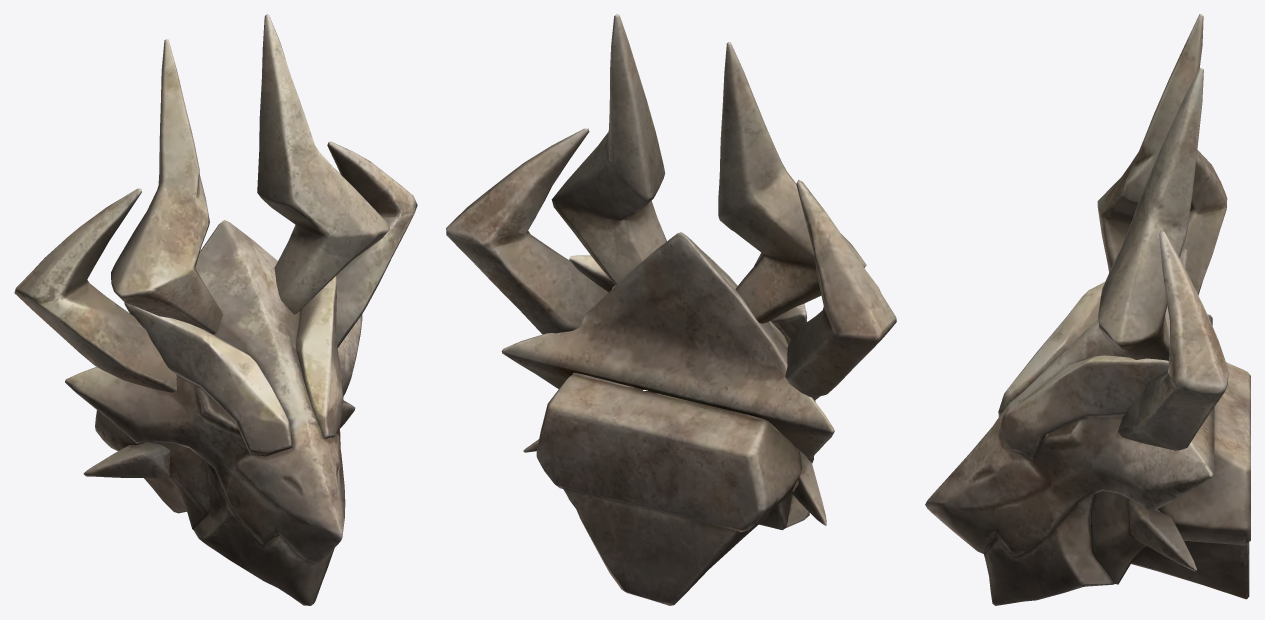
3 renders of one model, left to right at view 1: azimuth 30°, elevation 25°; view 2: azimuth 150°, elevation 25°; view 3: azimuth 270°, elevation 25°, orthographic. The views are drawn at different scales.
Visible parts, largest first — view 1: SM_Dragonkin_Wall_Face_01v3_LOD0; view 2: SM_Dragonkin_Wall_Face_01v3_LOD0; view 3: SM_Dragonkin_Wall_Face_01v3_LOD0.
Part boxes in pixels (<box>): SM_Dragonkin_Wall_Face_01v3_LOD0: <box>14,14,417,605</box>; SM_Dragonkin_Wall_Face_01v3_LOD0: <box>446,14,896,605</box>; SM_Dragonkin_Wall_Face_01v3_LOD0: <box>925,14,1250,605</box>.
Size of the model in its own units: 2.89 by 3.63 by 1.9.
1 material, 1 textured.
